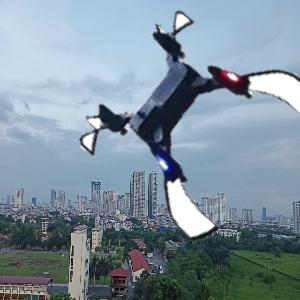drone: (99, 20, 300, 221)
